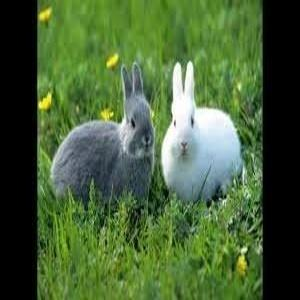rabbit: (51, 64, 154, 197), (161, 61, 243, 199)
